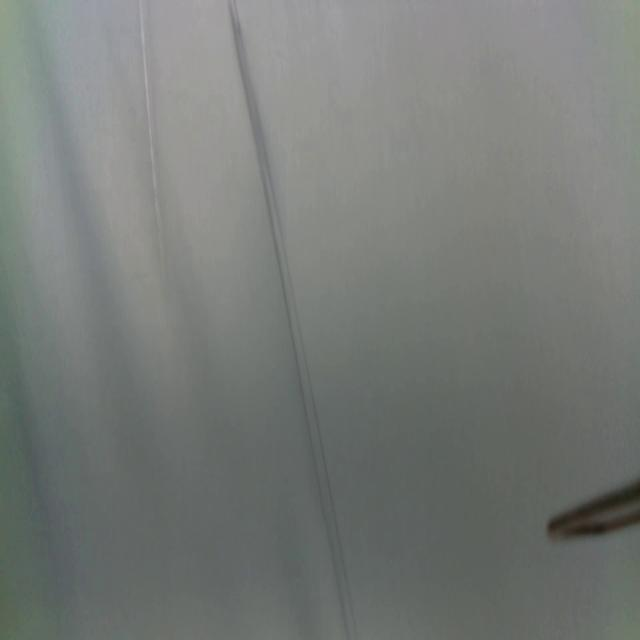crease: (229, 0, 354, 640), (138, 0, 168, 293)
